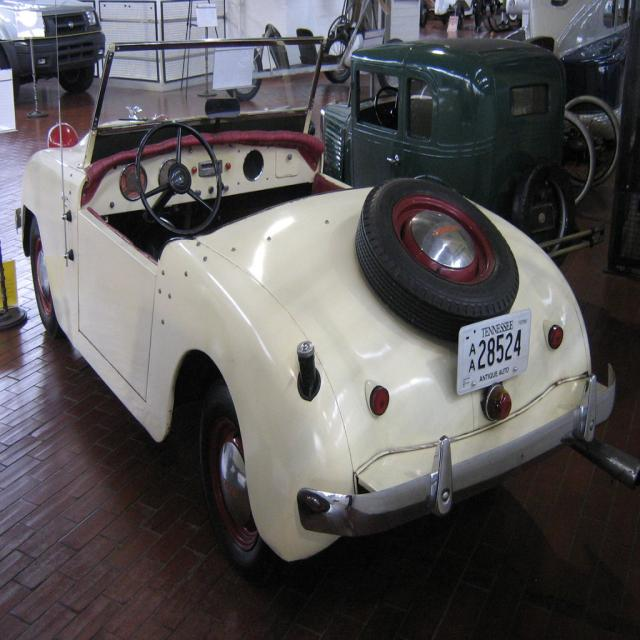car: (15, 33, 619, 579)
